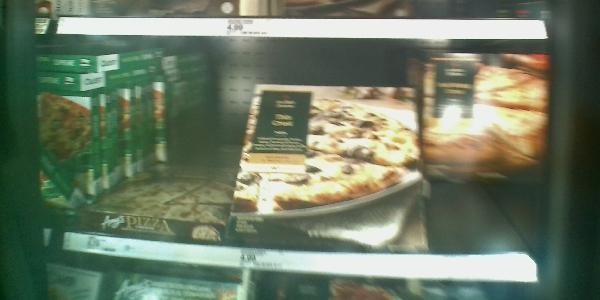pizza: (222, 85, 422, 255), (416, 51, 556, 185)
